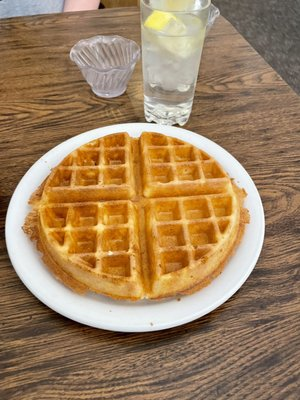pizza: (139, 0, 212, 127)
soup: (28, 128, 244, 301)
sushi: (70, 34, 141, 99)
